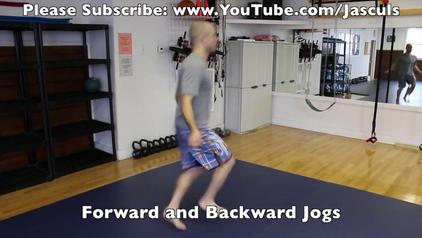walk: (396, 43, 417, 101)
